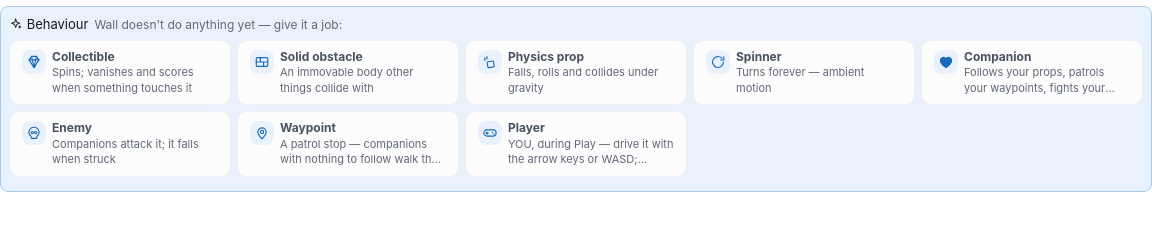
Test: refusals surface inline, in plain language
Click the button with test id "behaviour-solid": [348, 72] box [237,40,459,105]
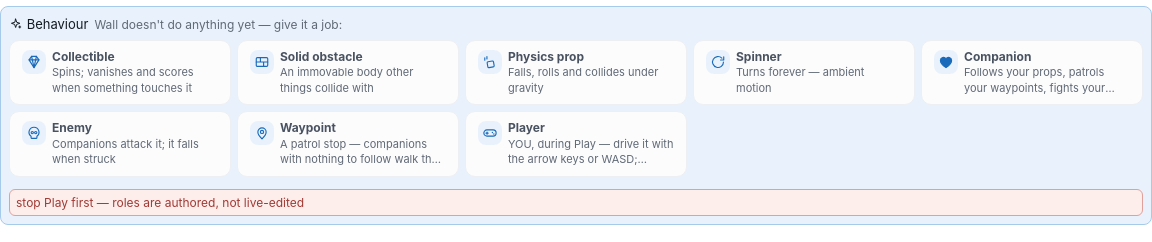
expect the message with test id "behaviour-refusal" shows "stop Play first": met, box [16,195,304,210]
